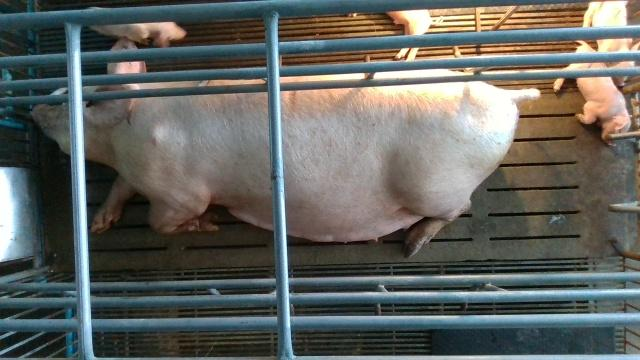piglet: (553, 40, 631, 145), (583, 0, 640, 87), (87, 6, 186, 45), (387, 10, 444, 59)
sow-sleep: (31, 34, 544, 259)
